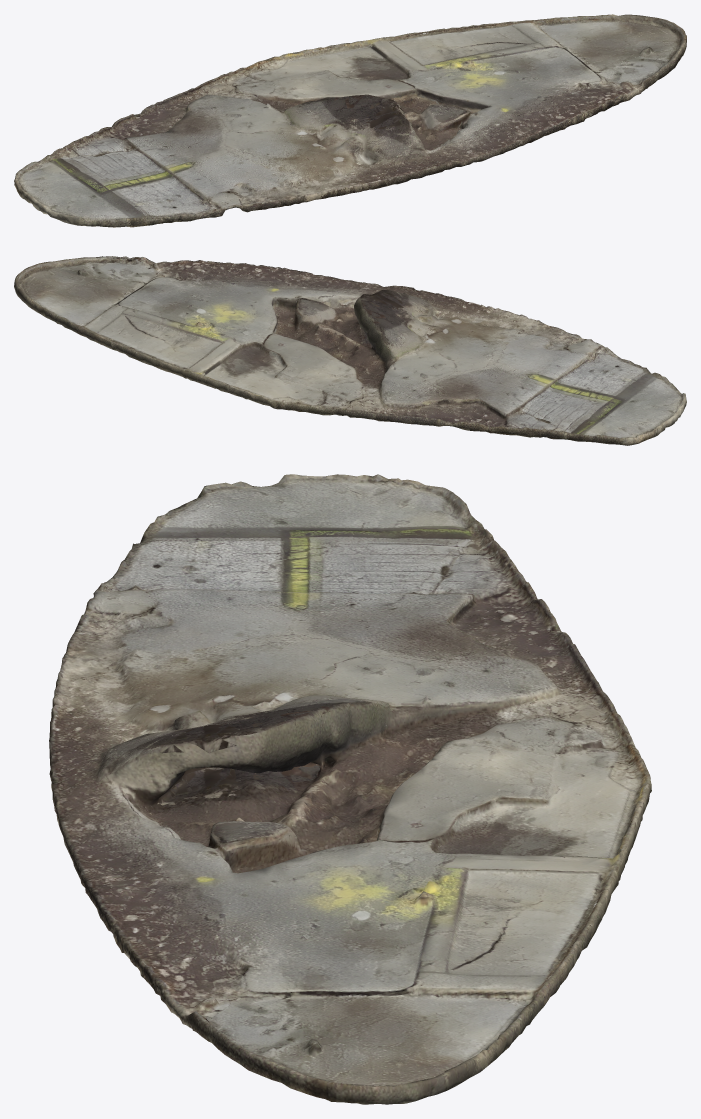
The model's file is collapsed_2.glb.
3 renders of one model, top to bottom at view 1: azimuth 30°, elevation 25°; view 2: azimuth 150°, elevation 25°; view 3: azimuth 270°, elevation 25°, orthographic. The views are drawn at different scales.
Parts seen in each view (by area): view 1: Mesh1.0; view 2: Mesh1.0; view 3: Mesh1.0.
Boxes of the visible parts, box(x1,y1,x2,y2) form: Mesh1.0: box(14, 14, 686, 227); Mesh1.0: box(14, 256, 686, 445); Mesh1.0: box(49, 474, 651, 1104).
Size of the model in its own units: 1.91 by 0.1244 by 0.7835.
Materials: 1 (1 with a texture image).
